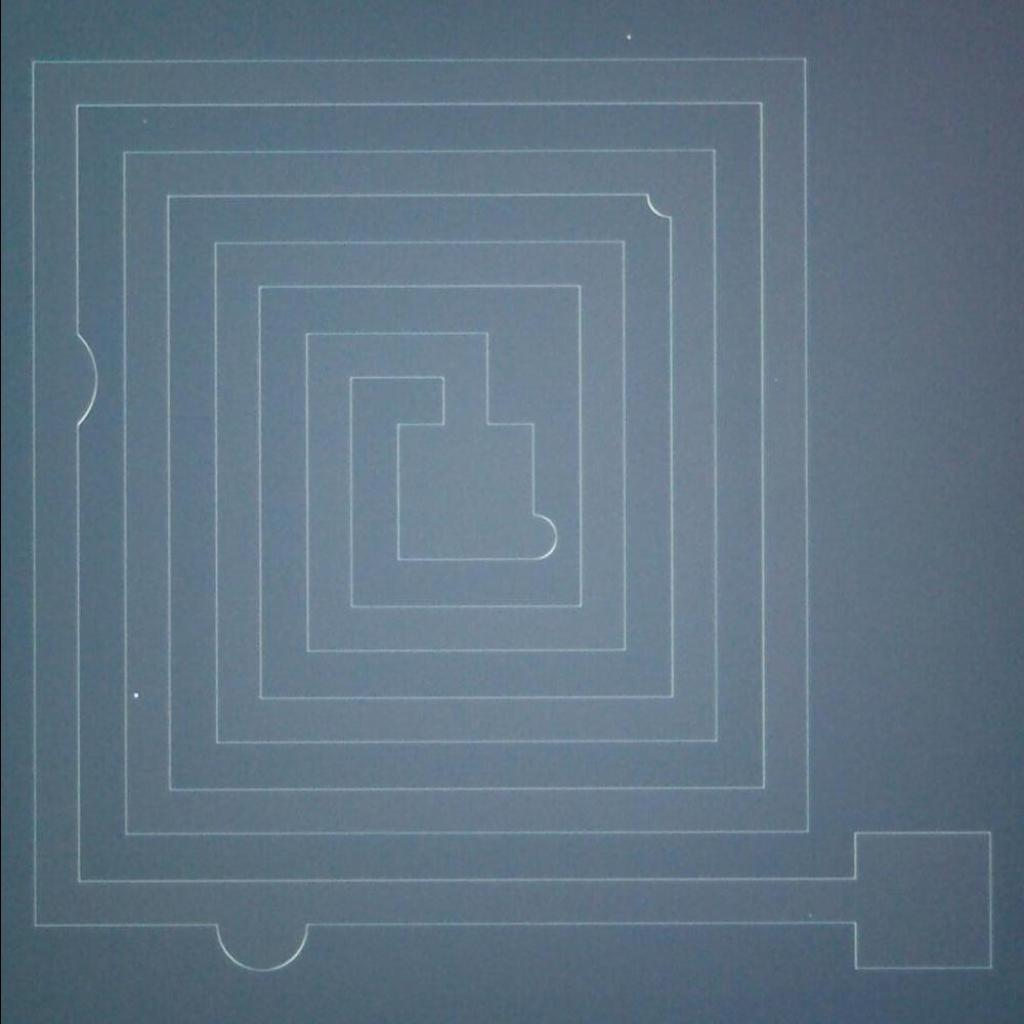curve circuit: (193, 909, 326, 988), (58, 323, 110, 437), (514, 503, 564, 567), (635, 188, 682, 234)
dot: (608, 22, 646, 52), (126, 682, 154, 710)
